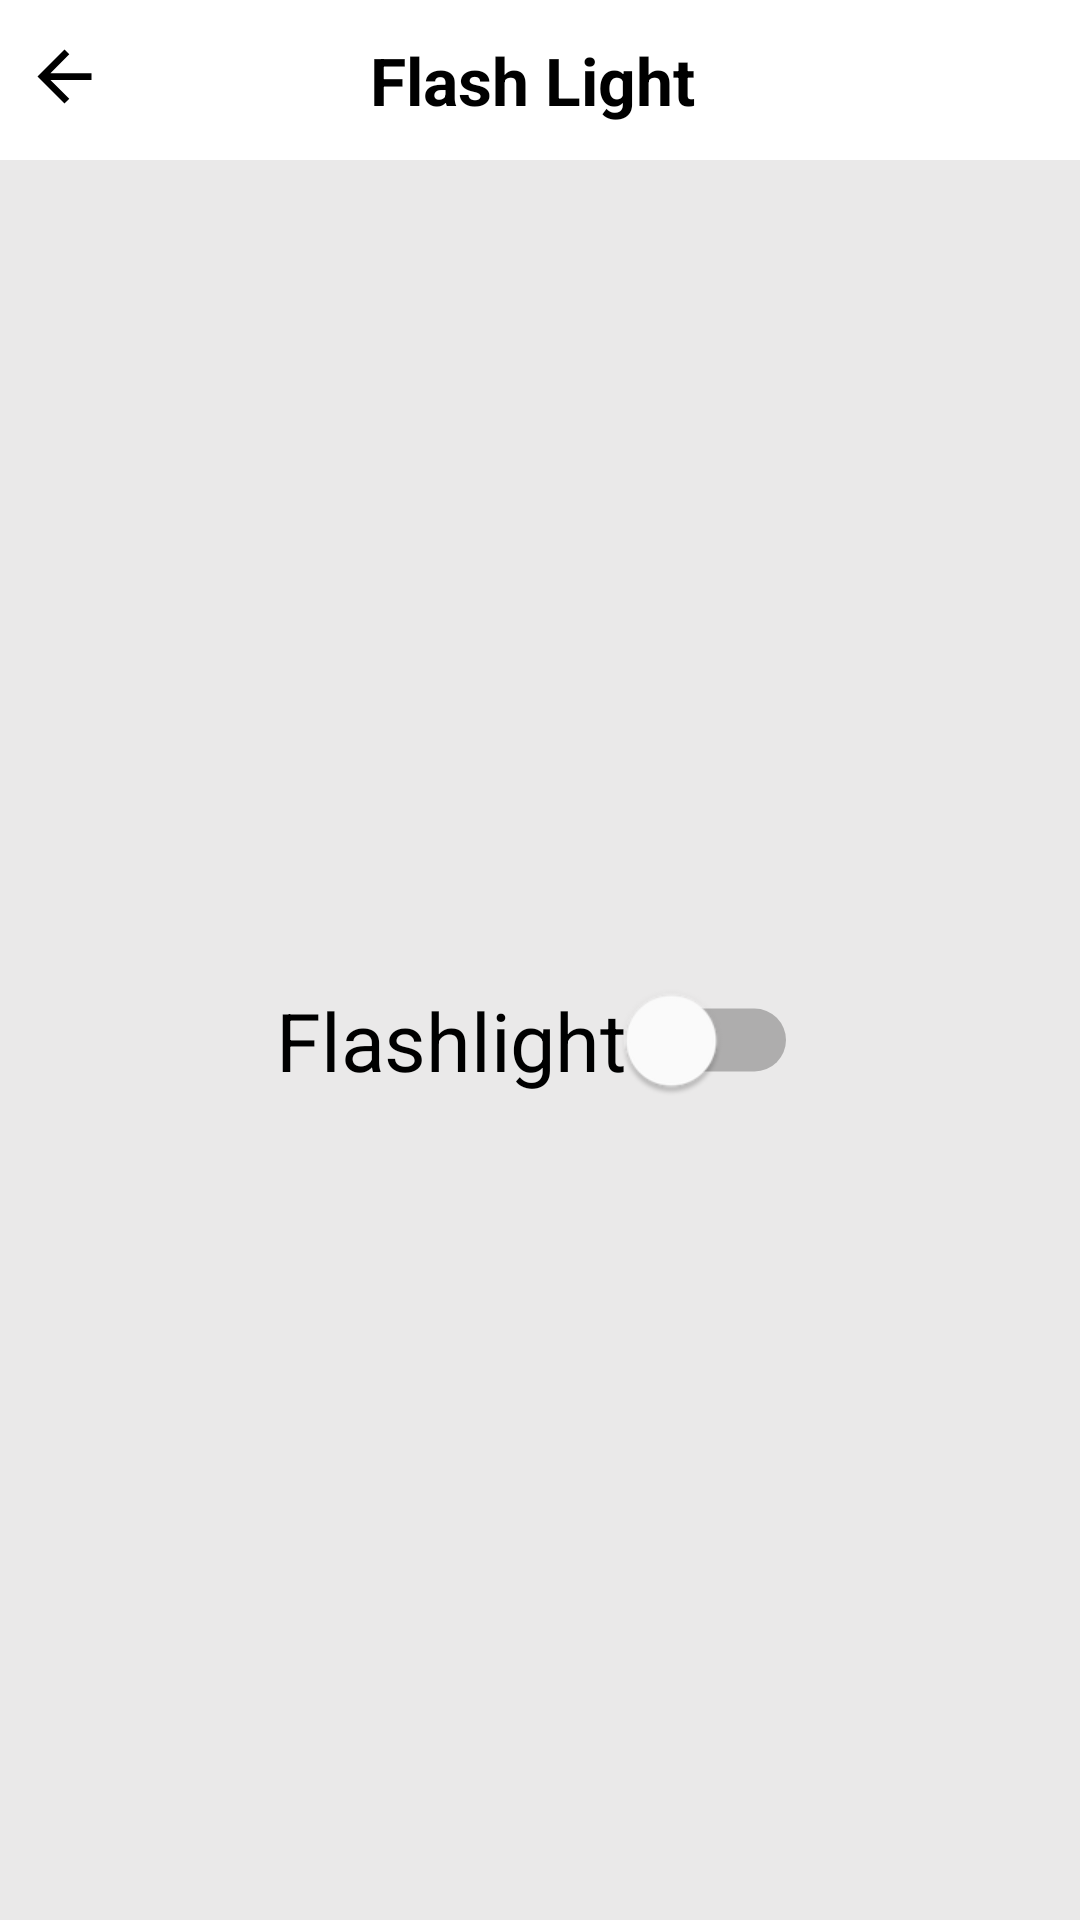

Icon click points for this 1080×1920 phone screenshot, format (x,y):
Back: (64,76)
